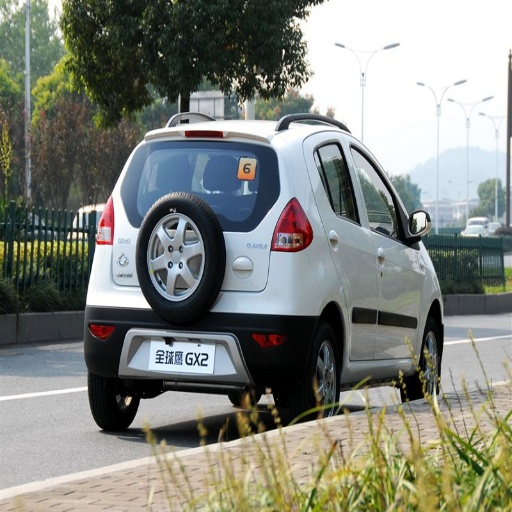back_bumper: (221, 233, 322, 365)
back_right_door: (312, 138, 380, 361)
trunk: (222, 201, 275, 280)
